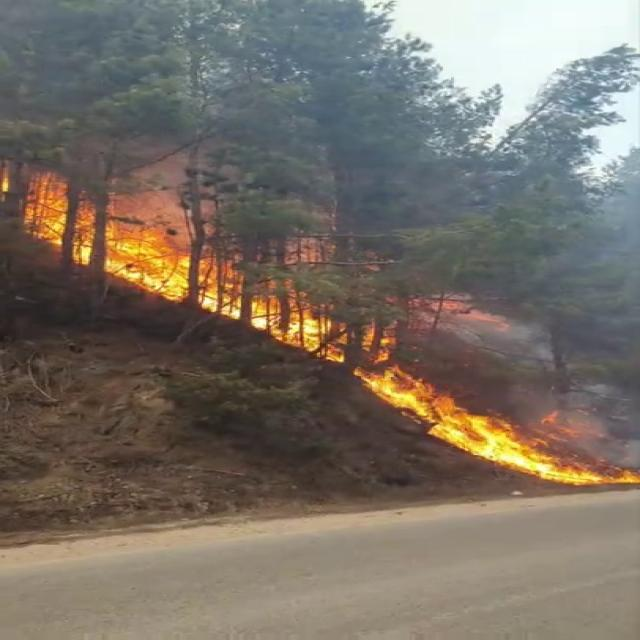Fire: (5, 159, 342, 349), (344, 326, 636, 489)
